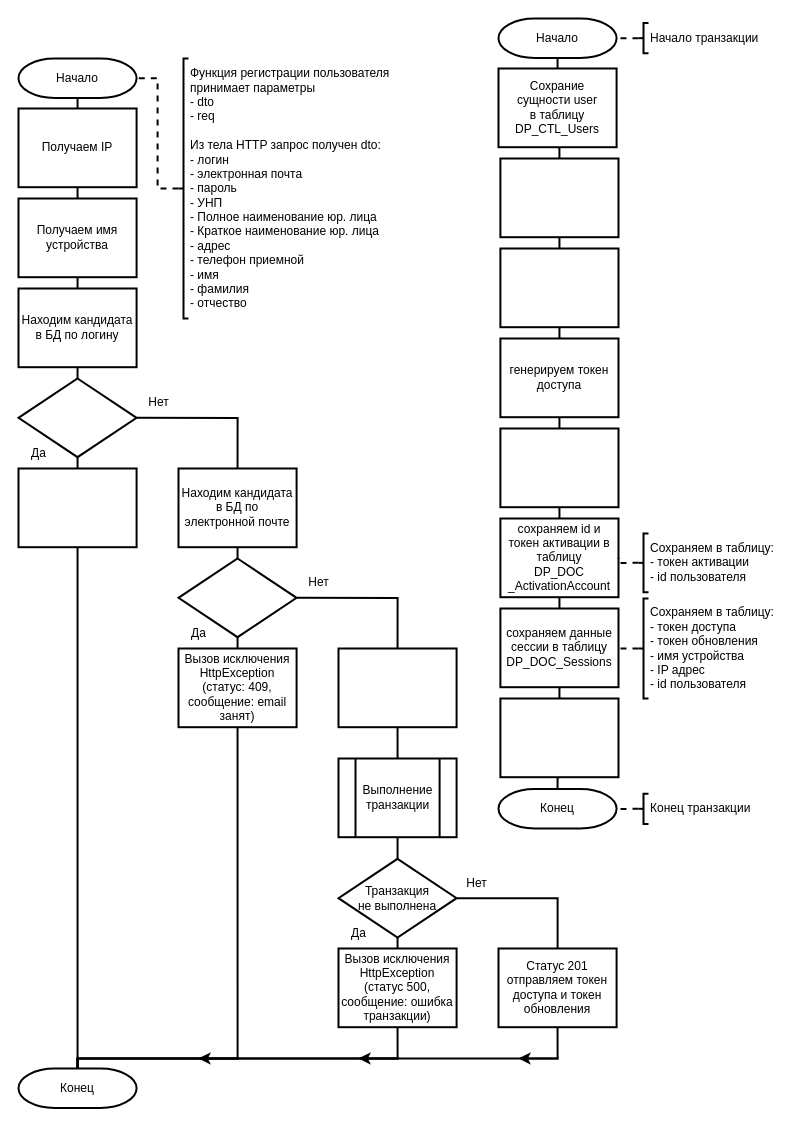
This 791x1126 diagram has some shape labels left out. The shapes that lost their labels are listed below. From the top down, each one's box as (x1, y1, x2, y2) in pixels, then its label:
(499, 157, 619, 238): Получаем id из сущности
(499, 247, 619, 328): генерируем токен активации
(17, 377, 137, 458): Кандитат по логину найден
(499, 427, 619, 508): генерируем токен обновления
(17, 467, 137, 548): Вызов исключения HttpException (cтатус: 409, cообщение: логин занят)
(177, 557, 297, 638): Кандитат по email найден
(337, 647, 457, 728): Получаем хэш пароля
(499, 697, 619, 778): Отправляем письмо подтверждения электронной поты
